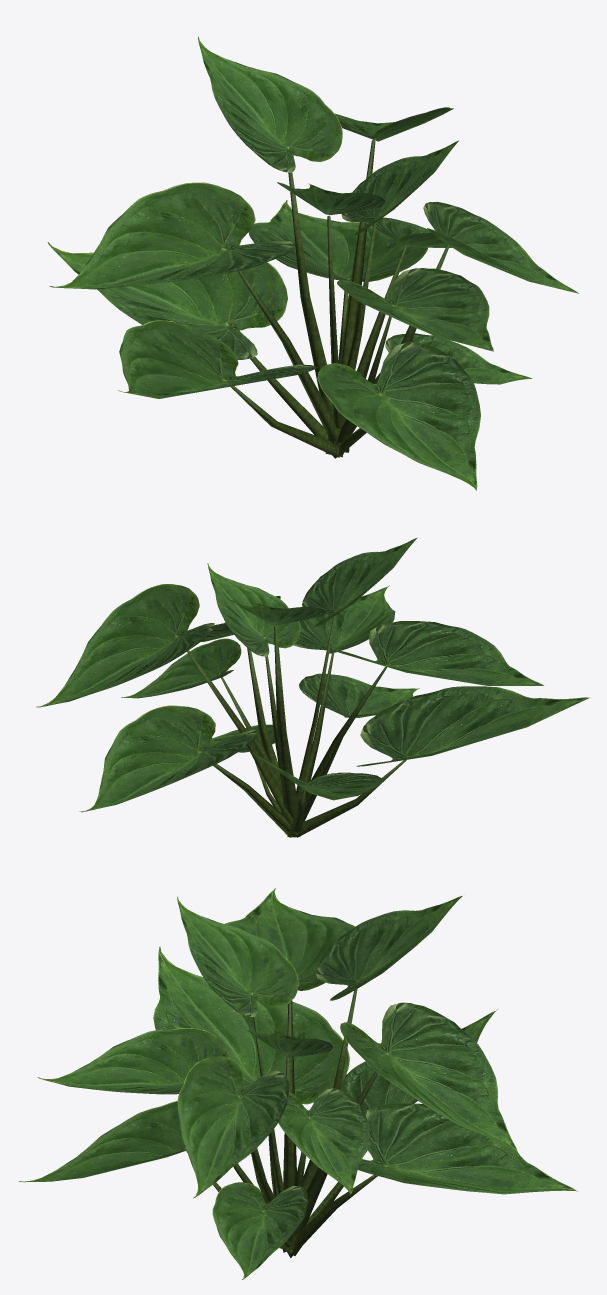
Rendered from MK4_Trop_Plant12.DAE.
The picture shows the model from 3 angles, top to bottom: view 1: azimuth 30°, elevation 25°; view 2: azimuth 150°, elevation 25°; view 3: azimuth 270°, elevation 25°; orthographic projection. The views are drawn at different scales.
Parts seen in each view (by area): view 1: MK4_Trop_plant12; view 2: MK4_Trop_plant12; view 3: MK4_Trop_plant12.
Part boxes in pixels (x1,y1,x2,y2): MK4_Trop_plant12: [47, 36, 578, 490]; MK4_Trop_plant12: [36, 537, 589, 837]; MK4_Trop_plant12: [19, 888, 577, 1279].
Bounding box in the file's own units: 2.17 × 2.12 × 1.41.
